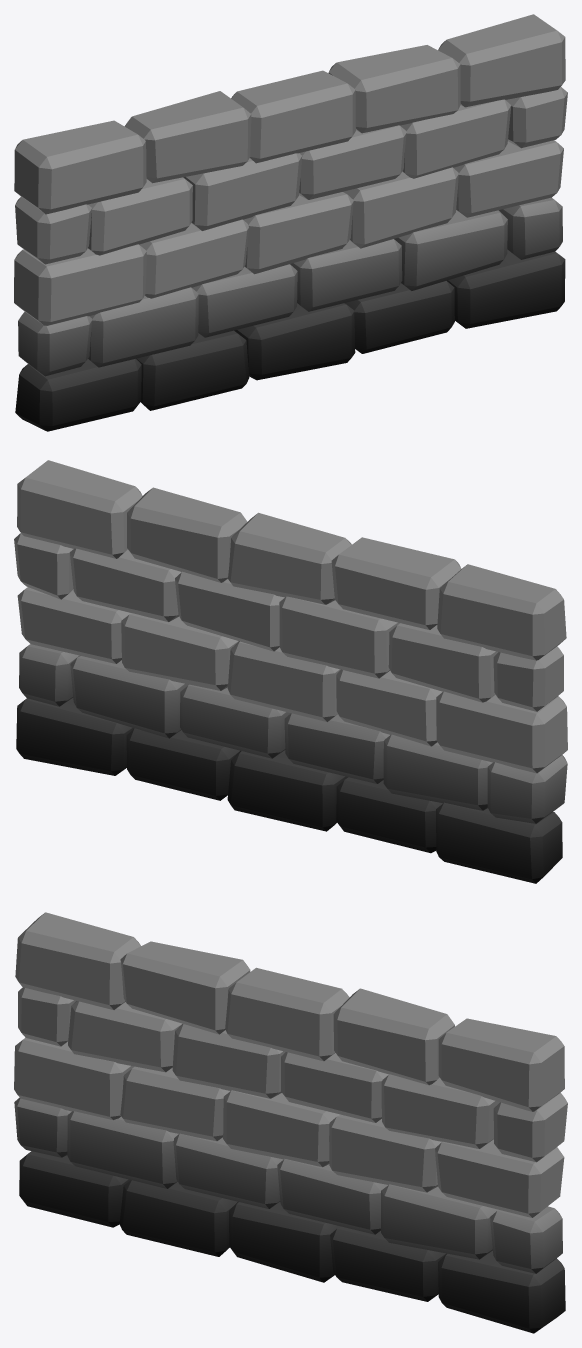
Rendered from BrickWall2x1_01_Solo.fbx.
3 views of the same model, one above another, from view 1: azimuth 30°, elevation 25°; view 2: azimuth 150°, elevation 25°; view 3: azimuth 330°, elevation 25° (orthographic).
Parts seen in each view (by area): view 1: BrickWall2x1_01_Solo; view 2: BrickWall2x1_01_Solo; view 3: BrickWall2x1_01_Solo.
Boxes of the visible parts, <box> form: BrickWall2x1_01_Solo: <box>14,14,567,431</box>; BrickWall2x1_01_Solo: <box>14,460,567,883</box>; BrickWall2x1_01_Solo: <box>14,912,567,1333</box>.
Bounding box in the file's own units: 200 × 101 × 21.84.
